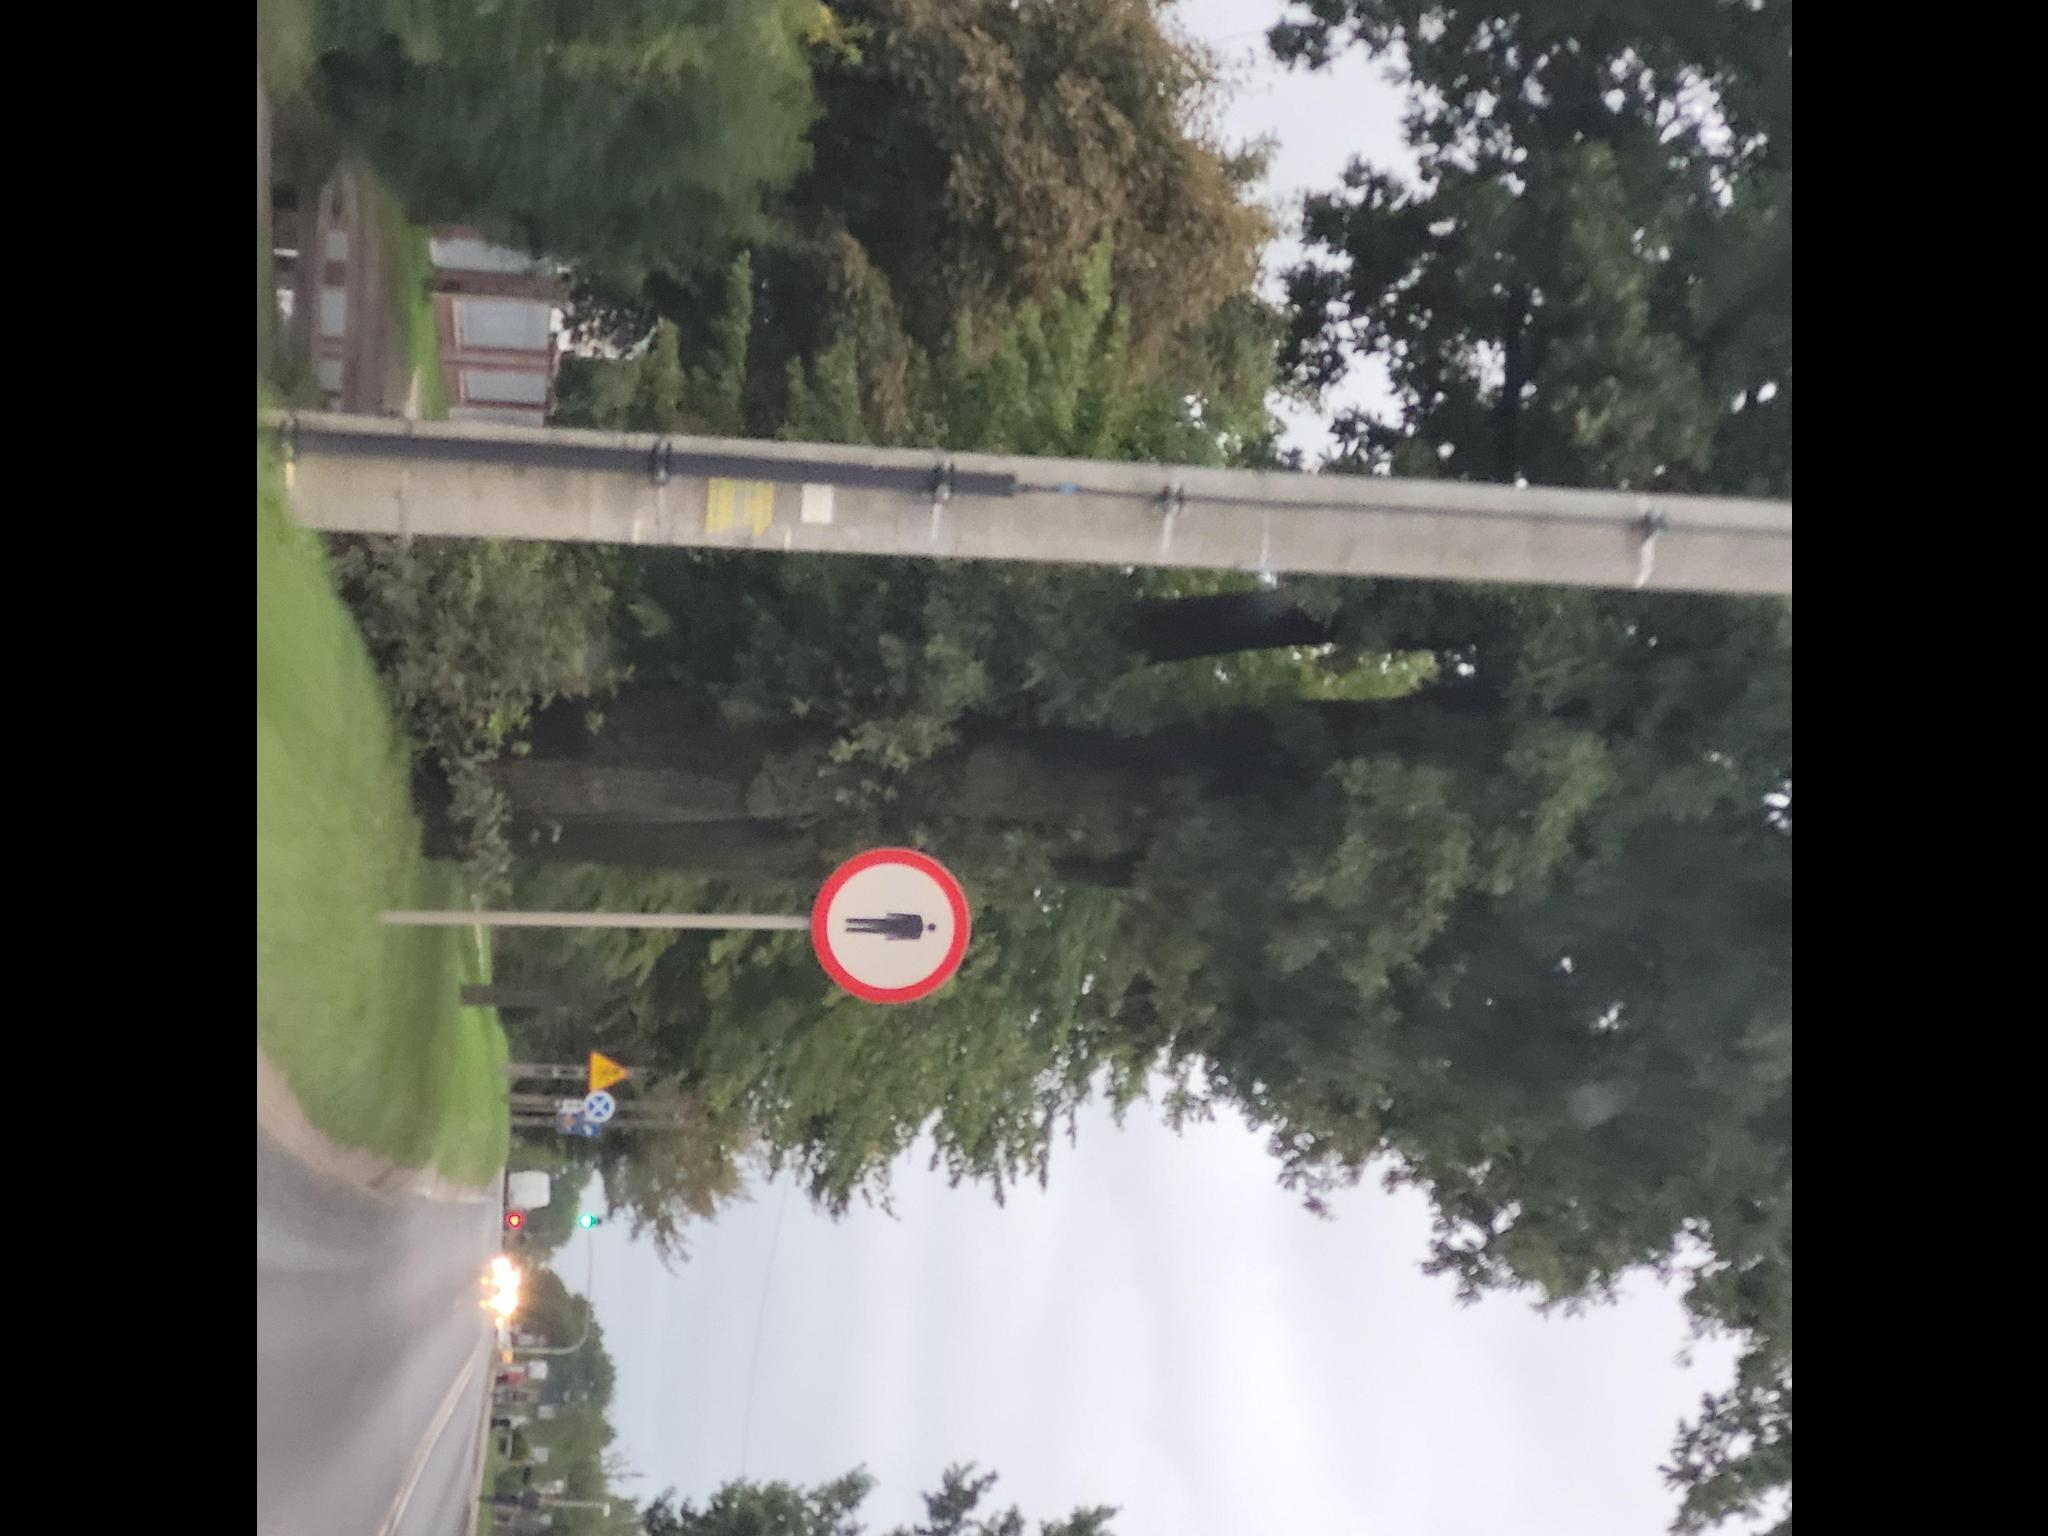prohibitory: (813, 845, 974, 1005), (582, 1091, 614, 1123)
warning: (585, 1049, 626, 1094)
